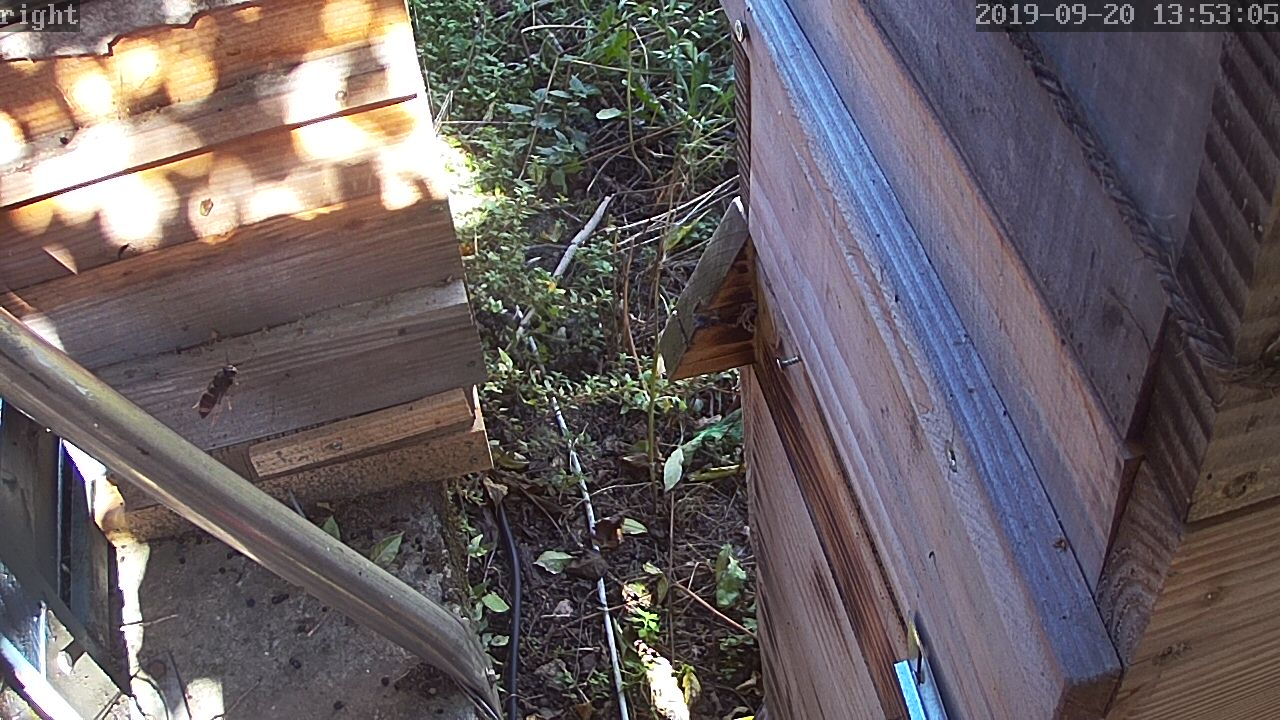hornet: (19, 14, 1244, 720)
